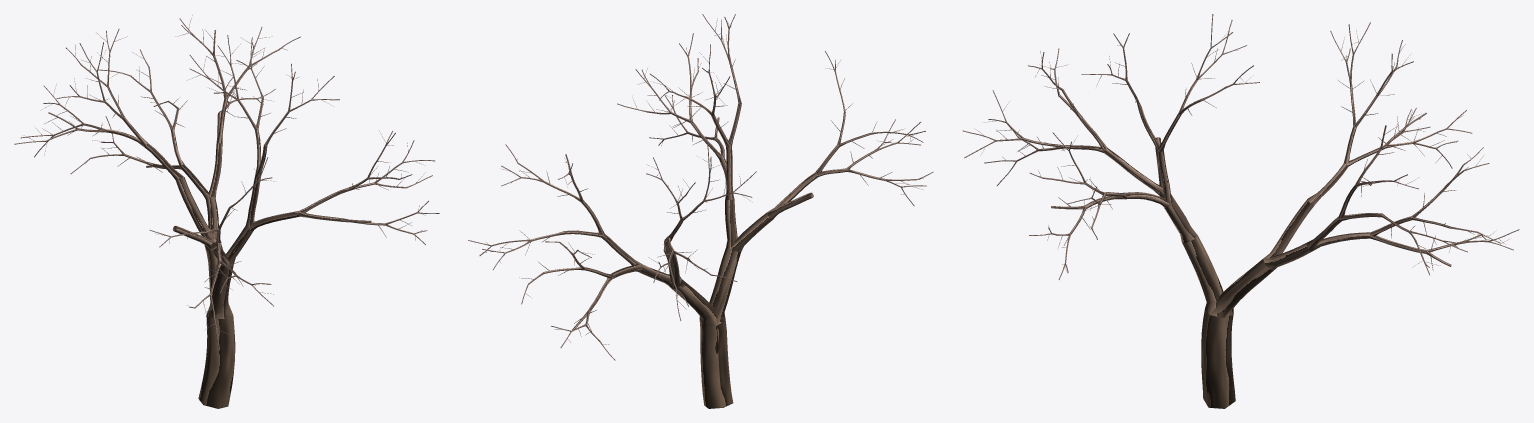
The model's file is Dead_Tree.fbx.
The picture shows the model from 3 angles, left to right: view 1: azimuth 30°, elevation 25°; view 2: azimuth 150°, elevation 25°; view 3: azimuth 270°, elevation 25°; orthographic projection. The views are drawn at different scales.
Parts seen in each view (by area): view 1: treeBare1Main; view 2: treeBare1Main; view 3: treeBare1Main.
Boxes of the visible parts, bbox=[...] form: treeBare1Main: bbox=[14, 15, 439, 408]; treeBare1Main: bbox=[468, 14, 933, 408]; treeBare1Main: bbox=[962, 14, 1519, 408].
Size of the model in its own units: 206 by 242 by 310.
Materials: 1 (1 with a texture image).
